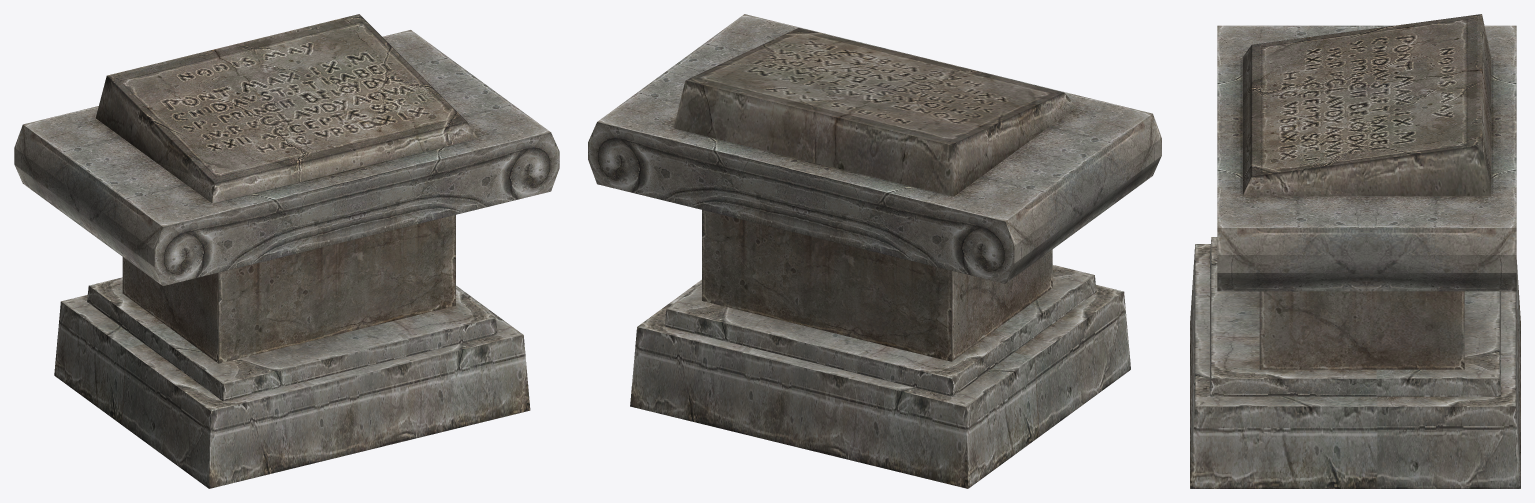
Rendered from bg_lut_lucastle_churchundertomb01a_sm_phs.FBX.
3 views of the same model, side by side, from view 1: azimuth 30°, elevation 25°; view 2: azimuth 150°, elevation 25°; view 3: azimuth 270°, elevation 25° (orthographic). The views are drawn at different scales.
Parts seen in each view (by area): view 1: bg_lut_lucastle_churchundertomb01a_sm_phs; view 2: bg_lut_lucastle_churchundertomb01a_sm_phs; view 3: bg_lut_lucastle_churchundertomb01a_sm_phs.
Boxes of the visible parts, x1,y1,x2,y2 form: bg_lut_lucastle_churchundertomb01a_sm_phs: (14,14,559,488); bg_lut_lucastle_churchundertomb01a_sm_phs: (588,14,1161,488); bg_lut_lucastle_churchundertomb01a_sm_phs: (1190,14,1520,488).
Size of the model in its own units: 121 by 86.98 by 80.11.
